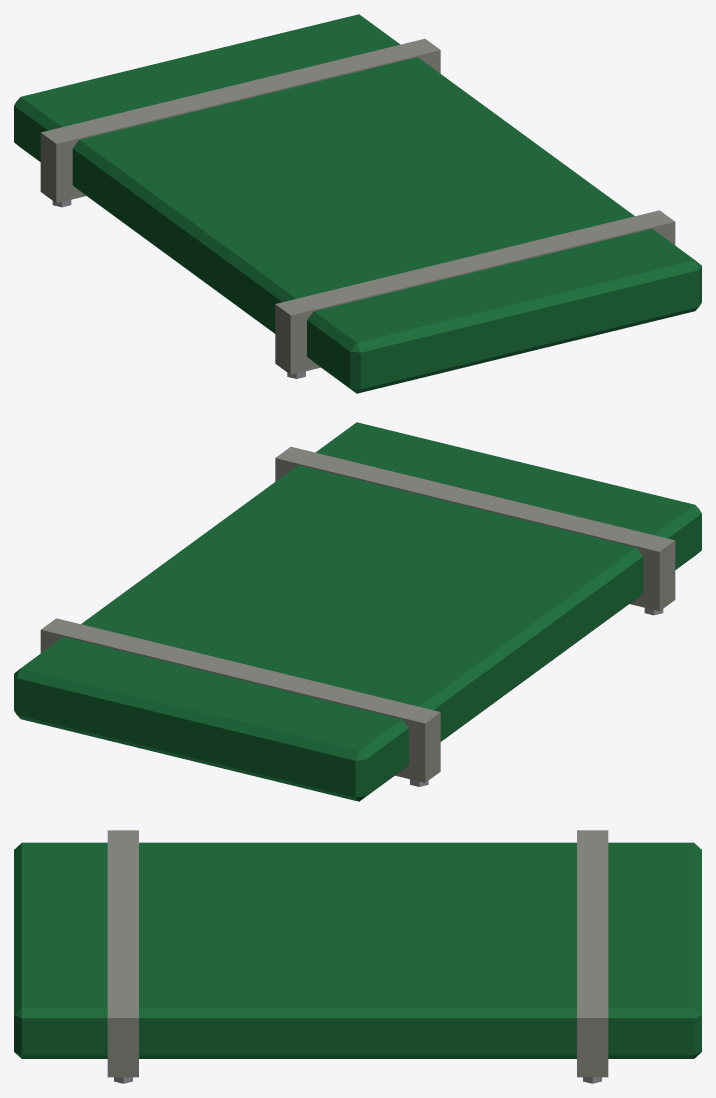
Rendered from refuge100_battery.obj.
3 views of the same model, one above another, from view 1: azimuth 30°, elevation 25°; view 2: azimuth 150°, elevation 25°; view 3: azimuth 270°, elevation 25° (orthographic).
Parts seen in each view (by area): view 1: refuge100_battery; view 2: refuge100_battery; view 3: refuge100_battery.
Boxes of the visible parts, box(x1,y1,x2,y2) form: refuge100_battery: box(14, 14, 701, 393); refuge100_battery: box(14, 422, 701, 801); refuge100_battery: box(14, 830, 701, 1083).
Bounding box in the file's own units: 1.42 × 0.24 × 2.2.
